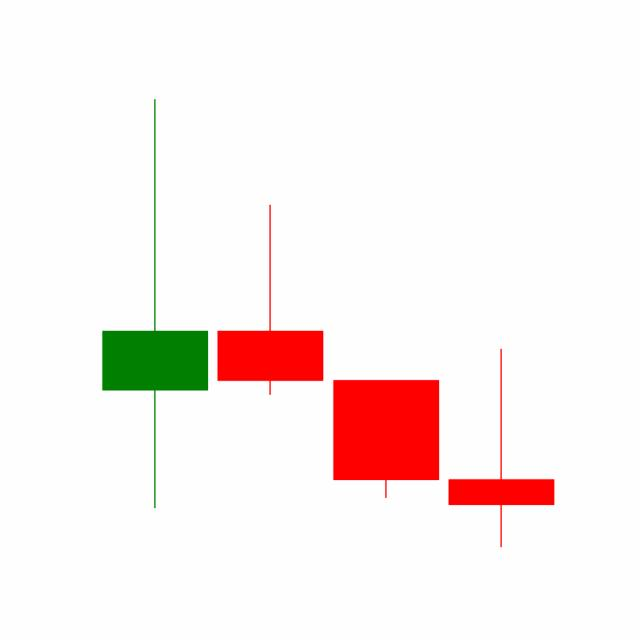Spinning Top: (443, 346, 559, 550)
